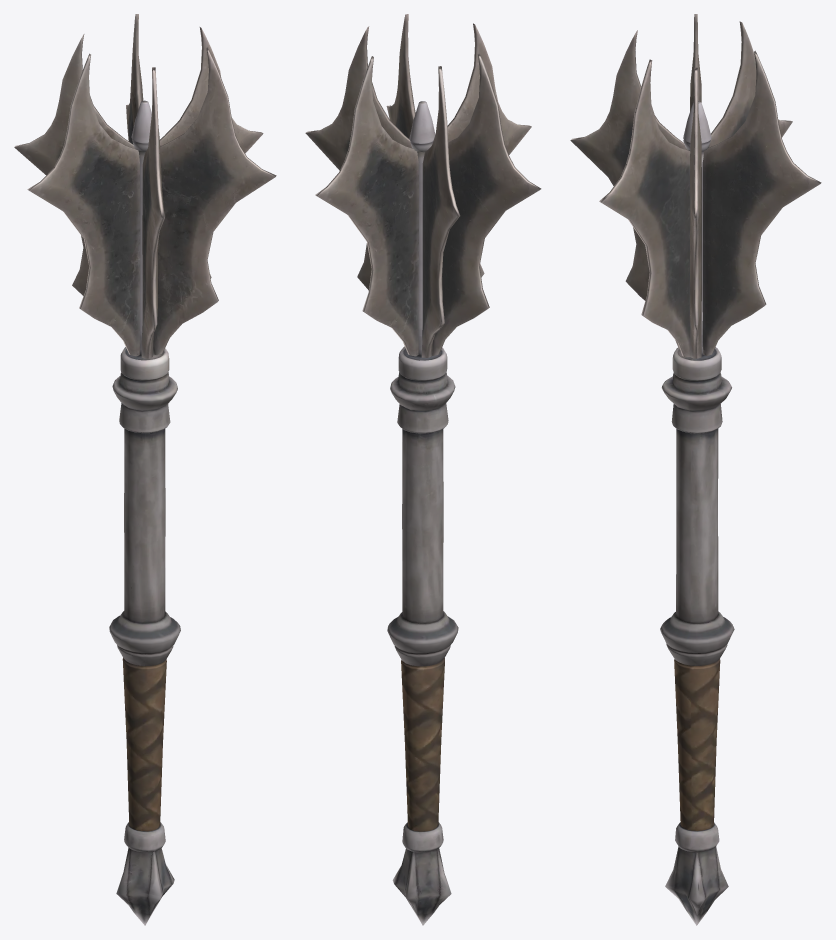
3 views of the same model, side by side, from view 1: azimuth 30°, elevation 25°; view 2: azimuth 150°, elevation 25°; view 3: azimuth 270°, elevation 25° (orthographic).
Parts seen in each view (by area): view 1: SM_Mace_Steel_1H_01_LOD0; view 2: SM_Mace_Steel_1H_01_LOD0; view 3: SM_Mace_Steel_1H_01_LOD0.
Part boxes in pixels (x1,y1,x2,y2): SM_Mace_Steel_1H_01_LOD0: (14, 14, 276, 925); SM_Mace_Steel_1H_01_LOD0: (305, 14, 541, 925); SM_Mace_Steel_1H_01_LOD0: (570, 14, 821, 925).
Size of the model in its own units: 0.2172 by 0.7837 by 0.2018.
Materials: 1 (1 with a texture image).
